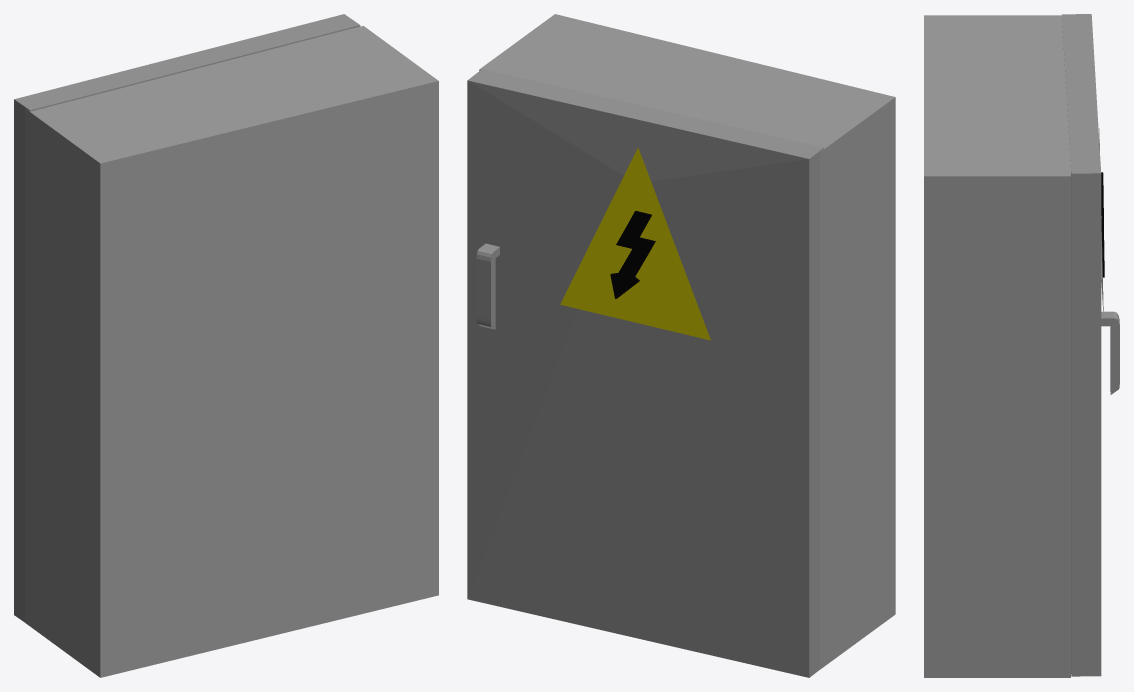
File: ElectricPannel.fbx
3 views of the same model, side by side, from view 1: azimuth 30°, elevation 25°; view 2: azimuth 150°, elevation 25°; view 3: azimuth 270°, elevation 25° (orthographic). The views are drawn at different scales.
Visible parts, largest first — view 1: Cube, Cube.005; view 2: Cube.005, Cube; view 3: Cube, Cube.005.
Part boxes in pixels (bbox=[...]): Cube: bbox=[25, 26, 438, 677]; Cube.005: bbox=[14, 14, 360, 622]; Cube.005: bbox=[467, 69, 823, 677]; Cube: bbox=[479, 14, 895, 669]; Cube: bbox=[924, 15, 1070, 677]; Cube.005: bbox=[1062, 14, 1119, 676].
Bounding box in the file's own units: 910 × 1324 × 467.
